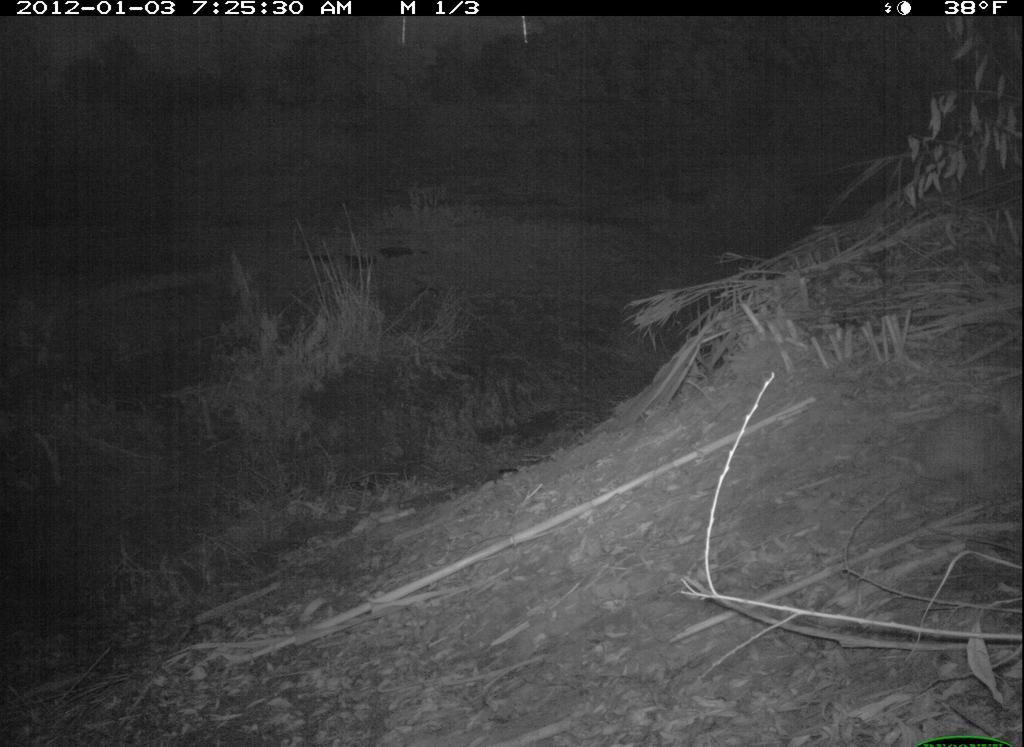rabbit: (912, 381, 1021, 498)
